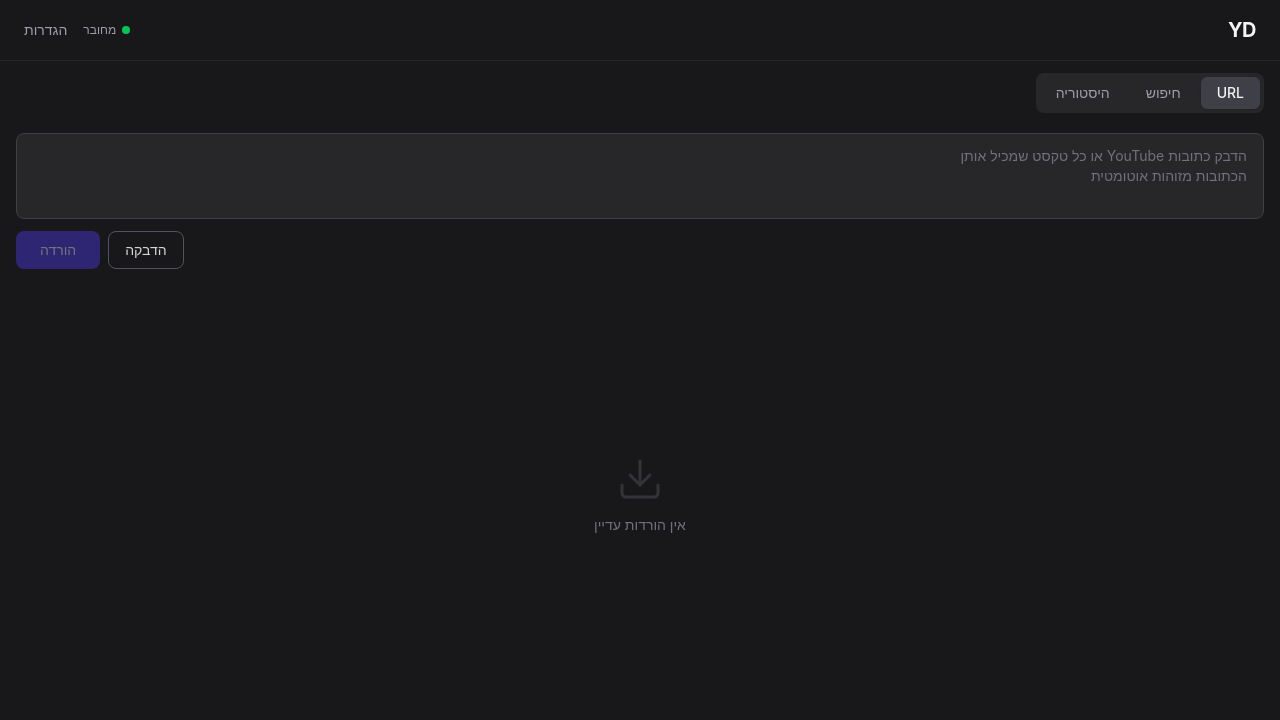
Test: App › switches to Search mode when Search tab clicked
This screenshot has width=1280, height=720.
Expected: the tab "URL" is shown, [1201,77,1260,109]
Click the tab "חיפוש".
click(1163, 93)  # box [1130,77,1197,109]
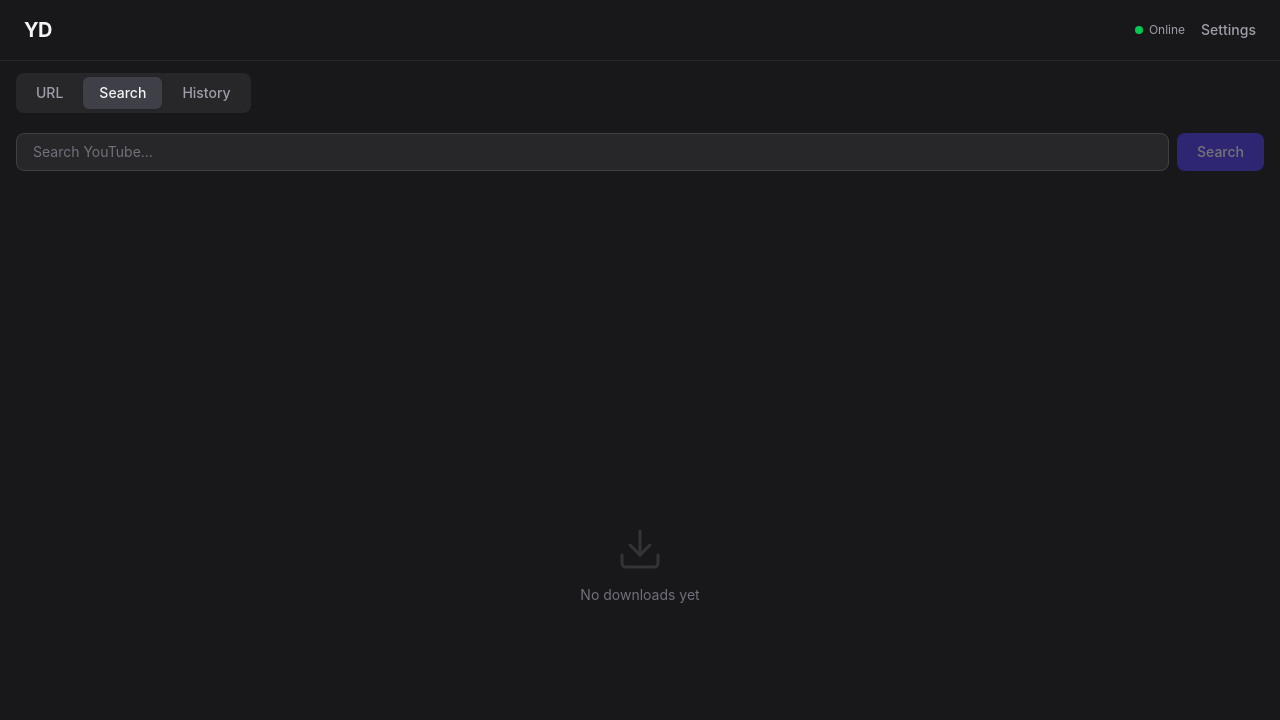
Expected: the field with placeholder "Search YouTube..." is shown, [16,133,1169,171]
